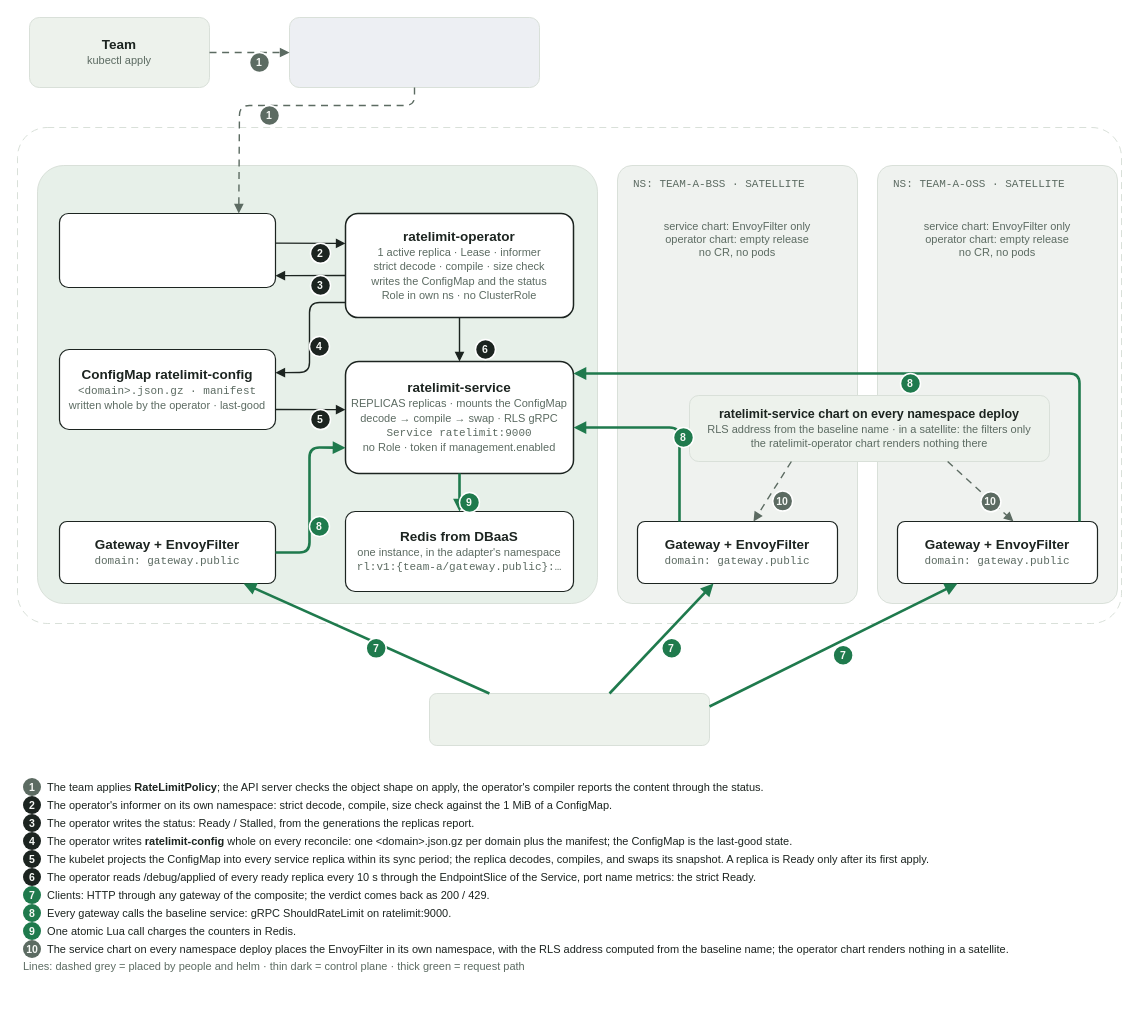
Image size: 1139x1035. Some labels were removed from this diagram. The box of each missing label's shape, as (x1, y1, x2, y2) in pixels:
API server CRD schema: object shape the operator's compiler judges the content: (288, 16, 540, 88)
Clients HTTP through any composite gateway: (428, 692, 710, 746)
COMPOSITE · ONE DOMAIN, ONE POLICY, ONE BUDGET: (16, 126, 1122, 624)
NS: TEAM-A · BASELINE: (36, 164, 598, 604)
RateLimitPolicy mapping · groups · limits · rules name == domain · 1 per domain: (58, 212, 276, 288)
